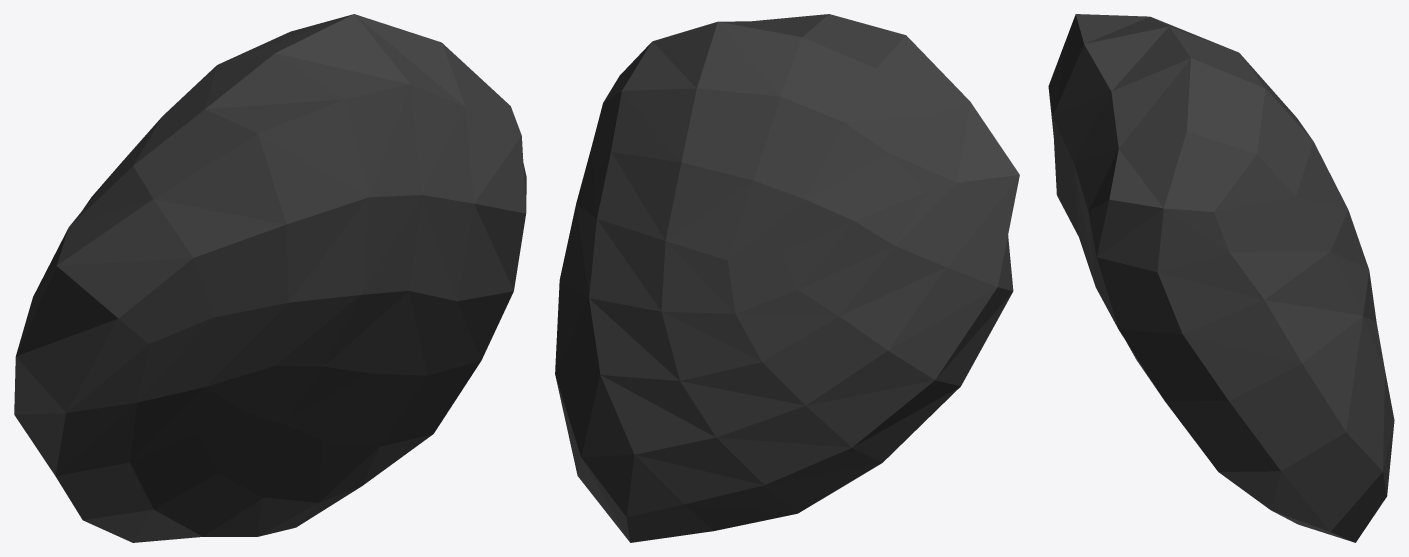
File: RFL_ulna_olecranon.glb
The picture shows the model from 3 angles, left to right: view 1: azimuth 30°, elevation 25°; view 2: azimuth 150°, elevation 25°; view 3: azimuth 270°, elevation 25°; orthographic projection. The views are drawn at different scales.
Visible parts, largest first — view 1: RFL_ulna_olecranon; view 2: RFL_ulna_olecranon; view 3: RFL_ulna_olecranon.
Boxes of the visible parts, left/top/right/bottom form: RFL_ulna_olecranon: left=14, top=14, right=526, bottom=542; RFL_ulna_olecranon: left=555, top=14, right=1019, bottom=542; RFL_ulna_olecranon: left=1048, top=14, right=1394, bottom=542.
Bounding box in the file's own units: 5.01 × 5.56 × 3.63.
Materials: 1 (1 with a texture image).
